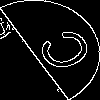C: (24, 25, 96, 81)
